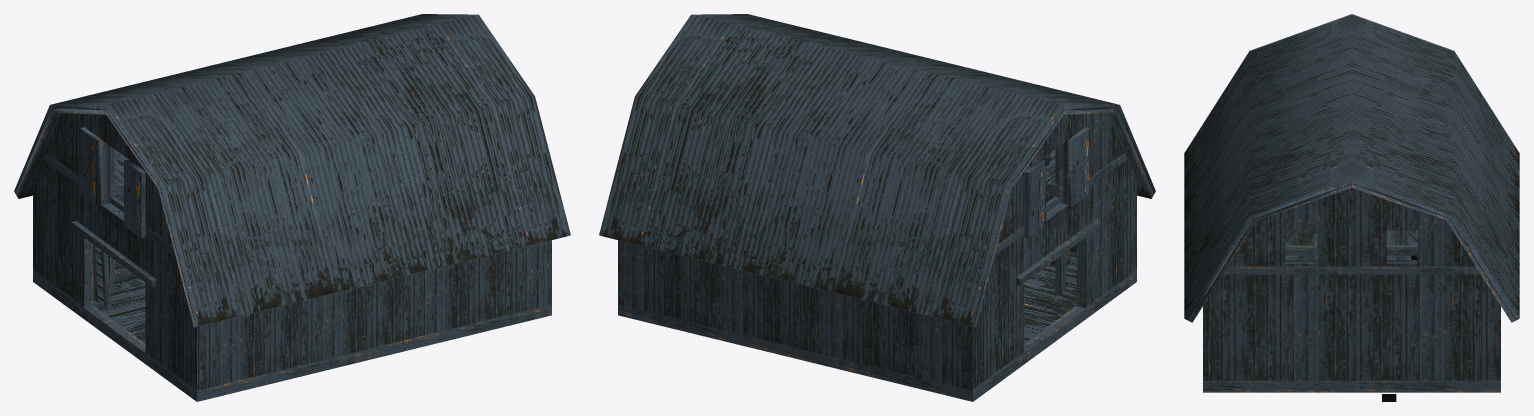
The model's file is barnMesh.fbx.
The picture shows the model from 3 angles, left to right: view 1: azimuth 30°, elevation 25°; view 2: azimuth 150°, elevation 25°; view 3: azimuth 270°, elevation 25°; orthographic projection. The views are drawn at different scales.
Visible parts, largest first — view 1: barnMesh; view 2: barnMesh; view 3: barnMesh.
Boxes of the visible parts, <box> form: barnMesh: <box>14,14,570,401</box>; barnMesh: <box>599,14,1155,401</box>; barnMesh: <box>1184,14,1519,401</box>.
Size of the model in its own units: 23 by 12.85 by 18.
